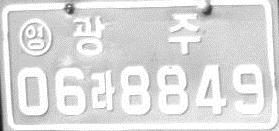0: (16, 66, 48, 116)
4: (194, 64, 226, 114)
6: (53, 67, 86, 116)
8: (155, 64, 189, 115), (119, 65, 151, 115)
9: (232, 63, 264, 114)
광주_D: (71, 13, 201, 55)
라: (89, 70, 114, 111)
영: (18, 19, 51, 56)
